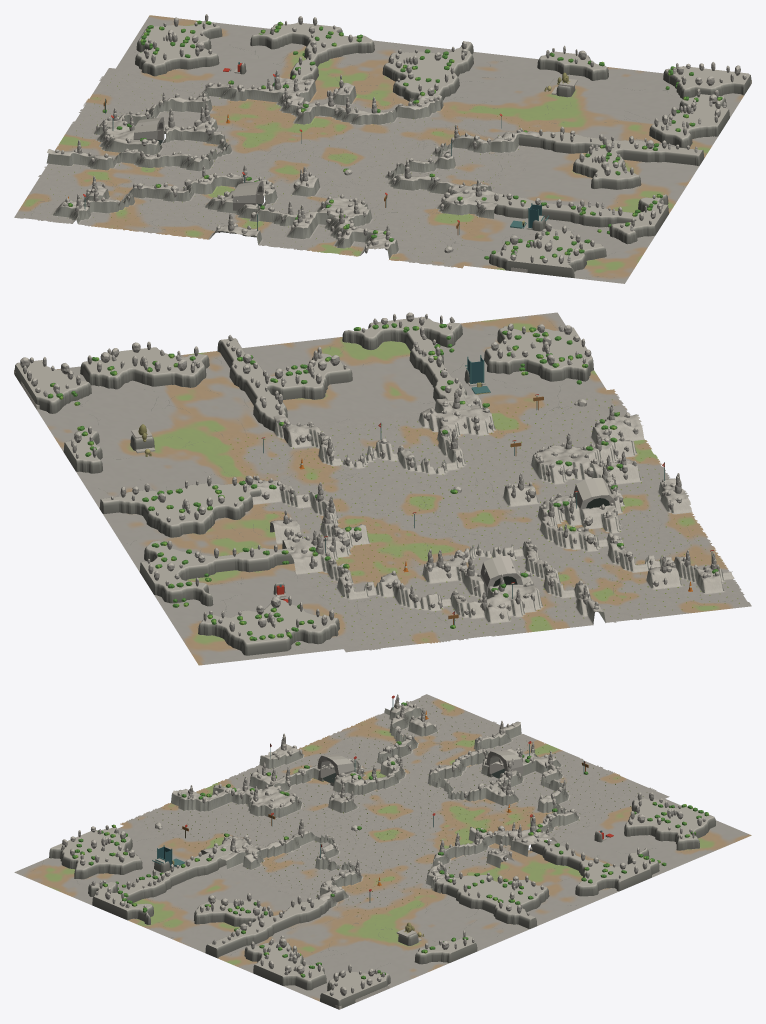
The model's file is terrain-props.glb.
3 renders of one model, top to bottom at view 1: azimuth 30°, elevation 25°; view 2: azimuth 150°, elevation 25°; view 3: azimuth 270°, elevation 25°, orthographic. The views are drawn at different scales.
Parts seen in each view (by area): view 1: HM14-source-adapted-terrain-props; view 2: HM14-source-adapted-terrain-props; view 3: HM14-source-adapted-terrain-props.
Part boxes in pixels (left/top/right/bottom): HM14-source-adapted-terrain-props: left=14, top=14, right=751, bottom=283; HM14-source-adapted-terrain-props: left=14, top=312, right=751, bottom=665; HM14-source-adapted-terrain-props: left=14, top=694, right=751, bottom=1009.
Size of the model in its own units: 146 by 6.69 by 144.
